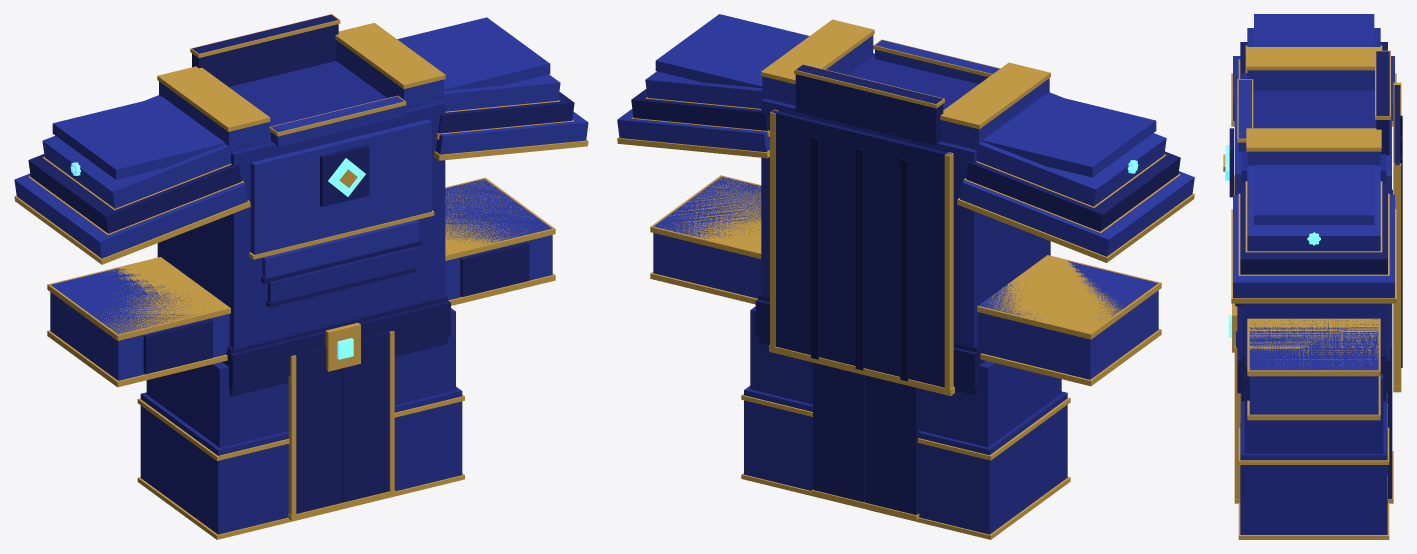
3 renders of one model, left to right at view 1: azimuth 30°, elevation 25°; view 2: azimuth 150°, elevation 25°; view 3: azimuth 270°, elevation 25°, orthographic. The views are drawn at different scales.
Parts seen in each view (by area): view 1: archmage-regalia; view 2: archmage-regalia; view 3: archmage-regalia.
Boxes of the visible parts, left/top/right/bottom form: archmage-regalia: left=14, top=14, right=588, bottom=539; archmage-regalia: left=617, top=14, right=1194, bottom=539; archmage-regalia: left=1223, top=14, right=1402, bottom=539.
Bounding box in the file's own units: 1.27 × 1.05 × 0.425.
